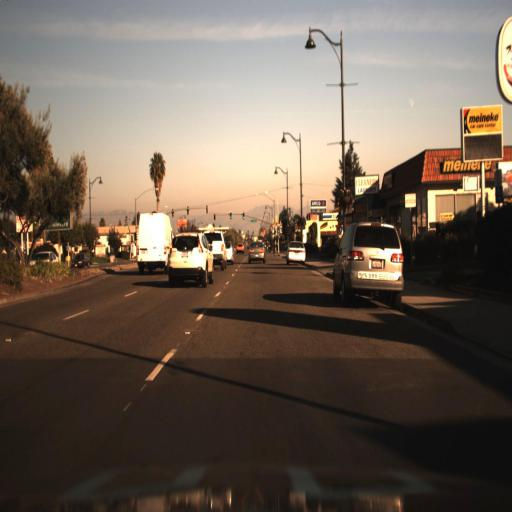car: (331, 214, 404, 302), (166, 232, 214, 292), (136, 214, 174, 278), (244, 240, 268, 265), (68, 248, 92, 272), (286, 241, 307, 268), (222, 236, 235, 268)
truck: (135, 212, 175, 281)
